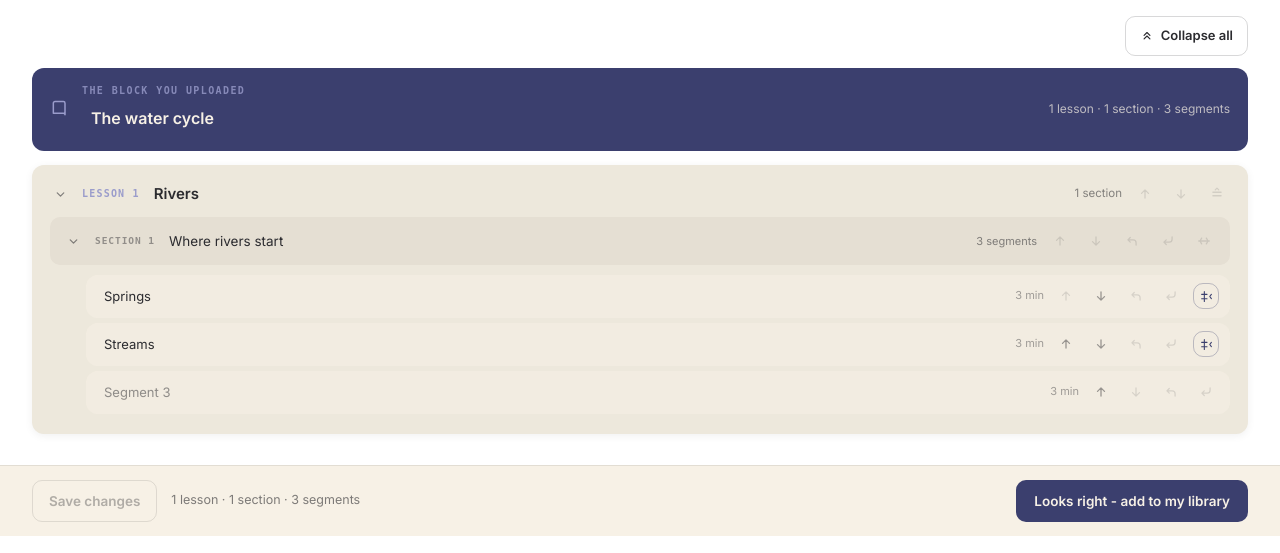
Test case: the unsaved guard › asks before leaving once the unit is renamed, until it is saved
This screenshot has width=1280, height=553.
Replace the text in the field named "Unit title" with "Water on the move" at {"x": 559, "y": 118}, box [82, 100, 1037, 136]
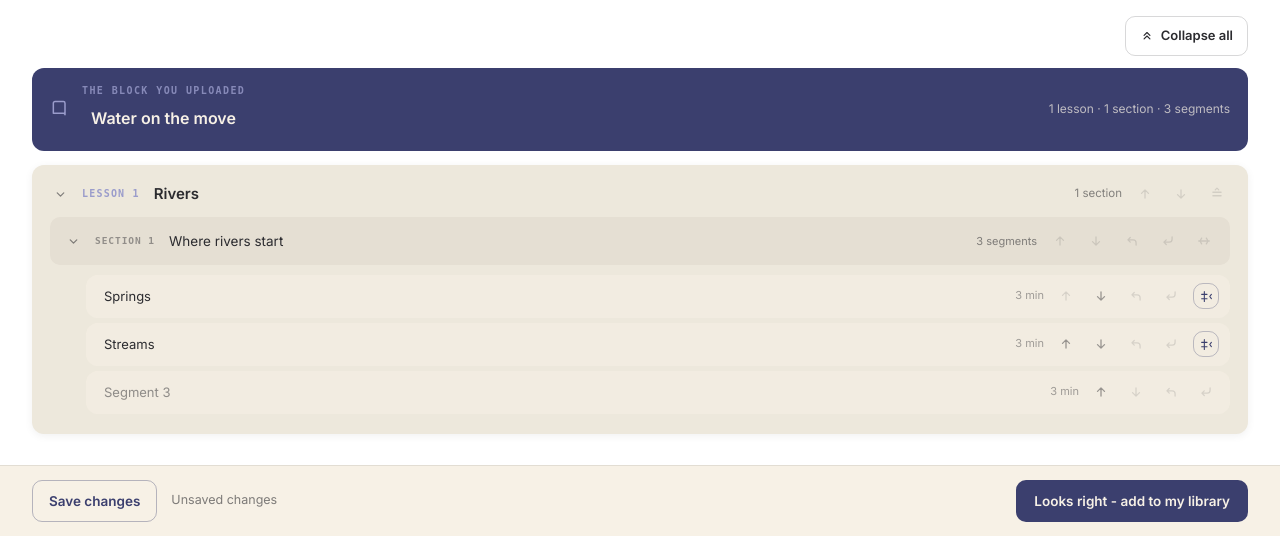
Click the button "Save changes" at {"x": 95, "y": 501}, box [32, 480, 157, 522]
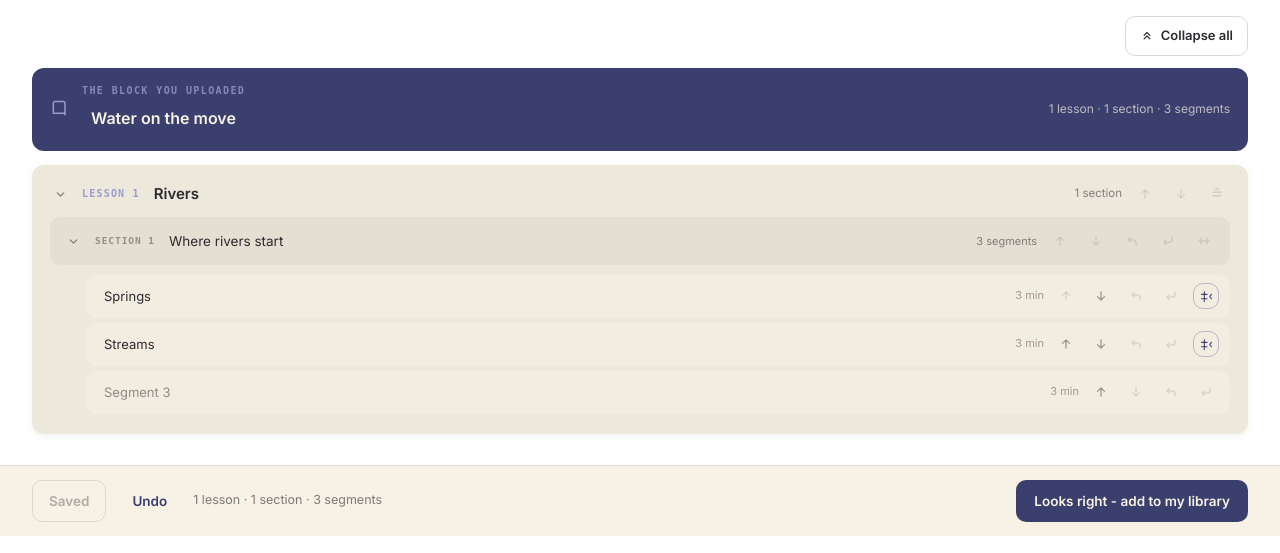
Result: the button "Saved" is shown at [32, 480, 106, 522]
